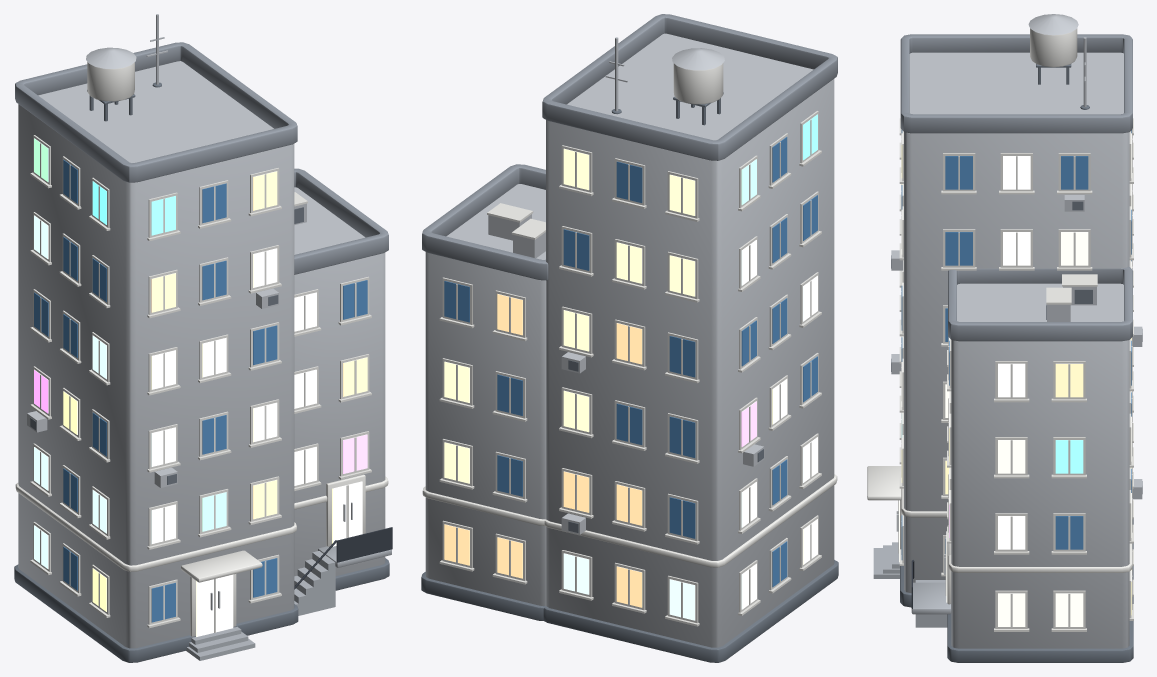
File: apto_cinza_l.glb
3 renders of one model, left to right at view 1: azimuth 30°, elevation 25°; view 2: azimuth 150°, elevation 25°; view 3: azimuth 270°, elevation 25°, orthographic. The views are drawn at different scales.
Parts seen in each view (by area): view 1: apto_cinza_l; view 2: apto_cinza_l; view 3: apto_cinza_l.
Part boxes in pixels (x1,y1,x2,y2): apto_cinza_l: (14, 14, 392, 662); apto_cinza_l: (421, 14, 838, 662); apto_cinza_l: (867, 14, 1142, 662).
Bounding box in the file's own units: 12.95 × 22.91 × 10.5.
Materials: 8 (1 with a texture image).
